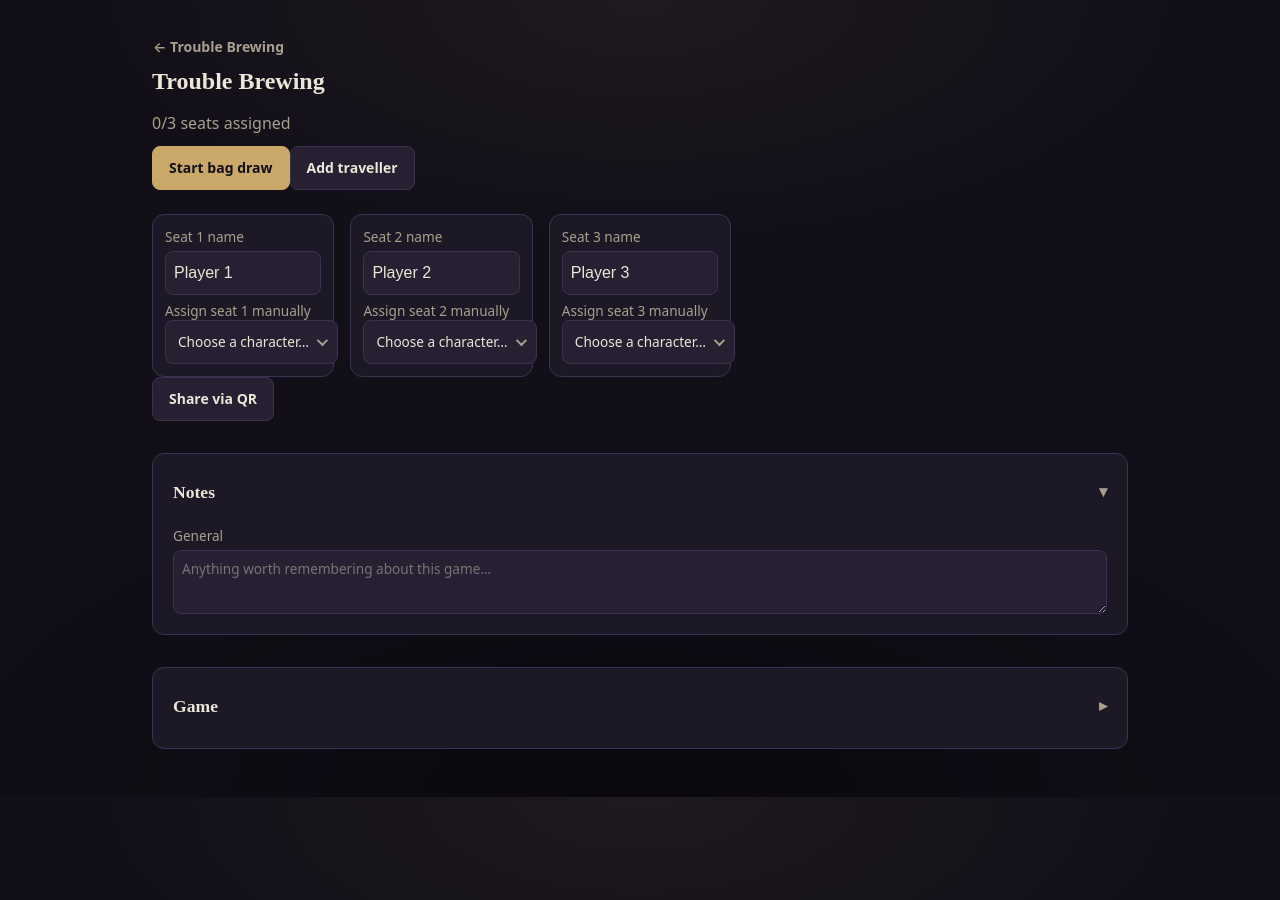
Test: bag draw: shuffle, immediate reveal, name & advance › keeps every already-drawn seat's identity hidden while another seat is mid-draw
Click the button "Start bag draw" at {"x": 221, "y": 168}, box [152,146,290,190]
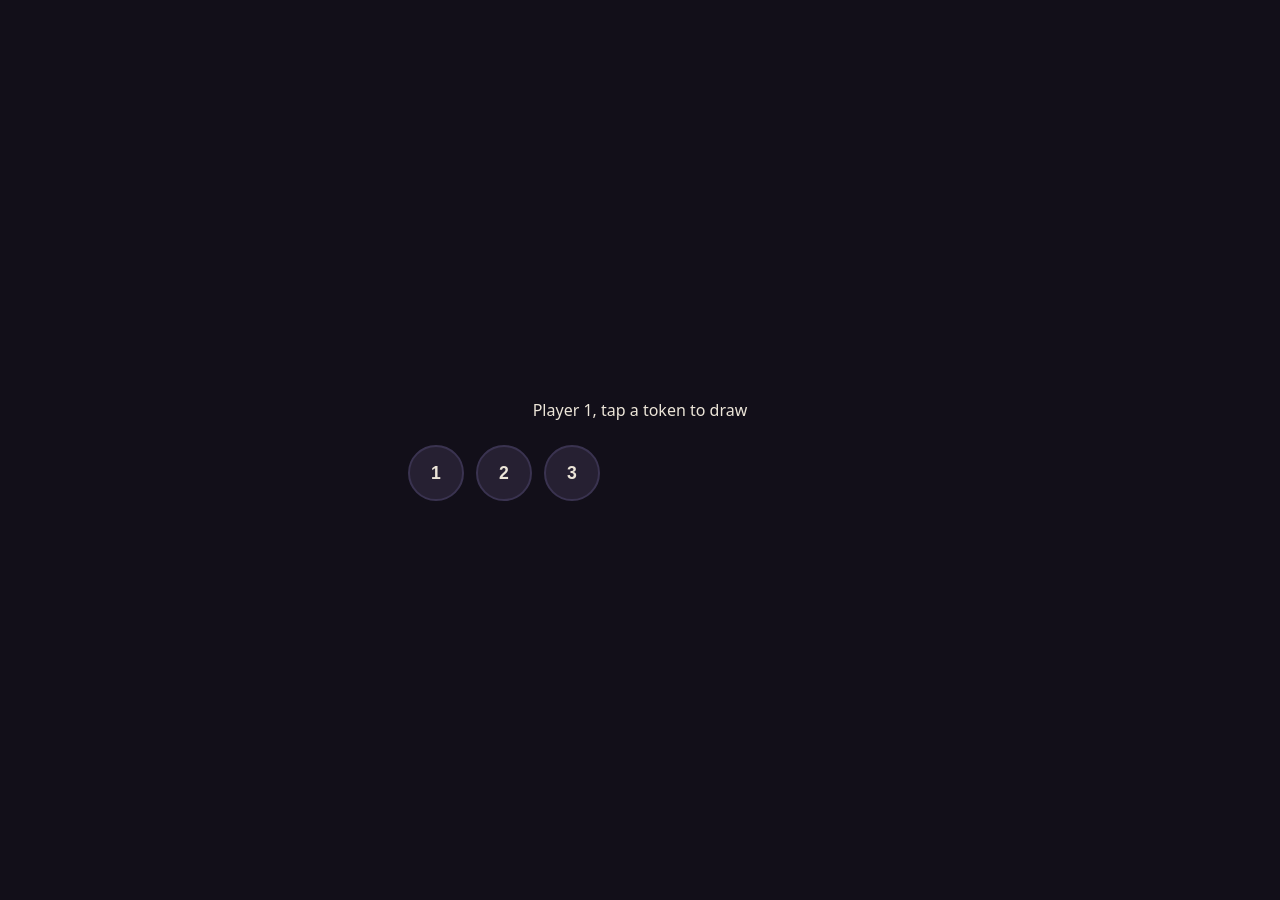
Click the button named "Face-down token" at {"x": 436, "y": 473}, box [408,445,464,501]
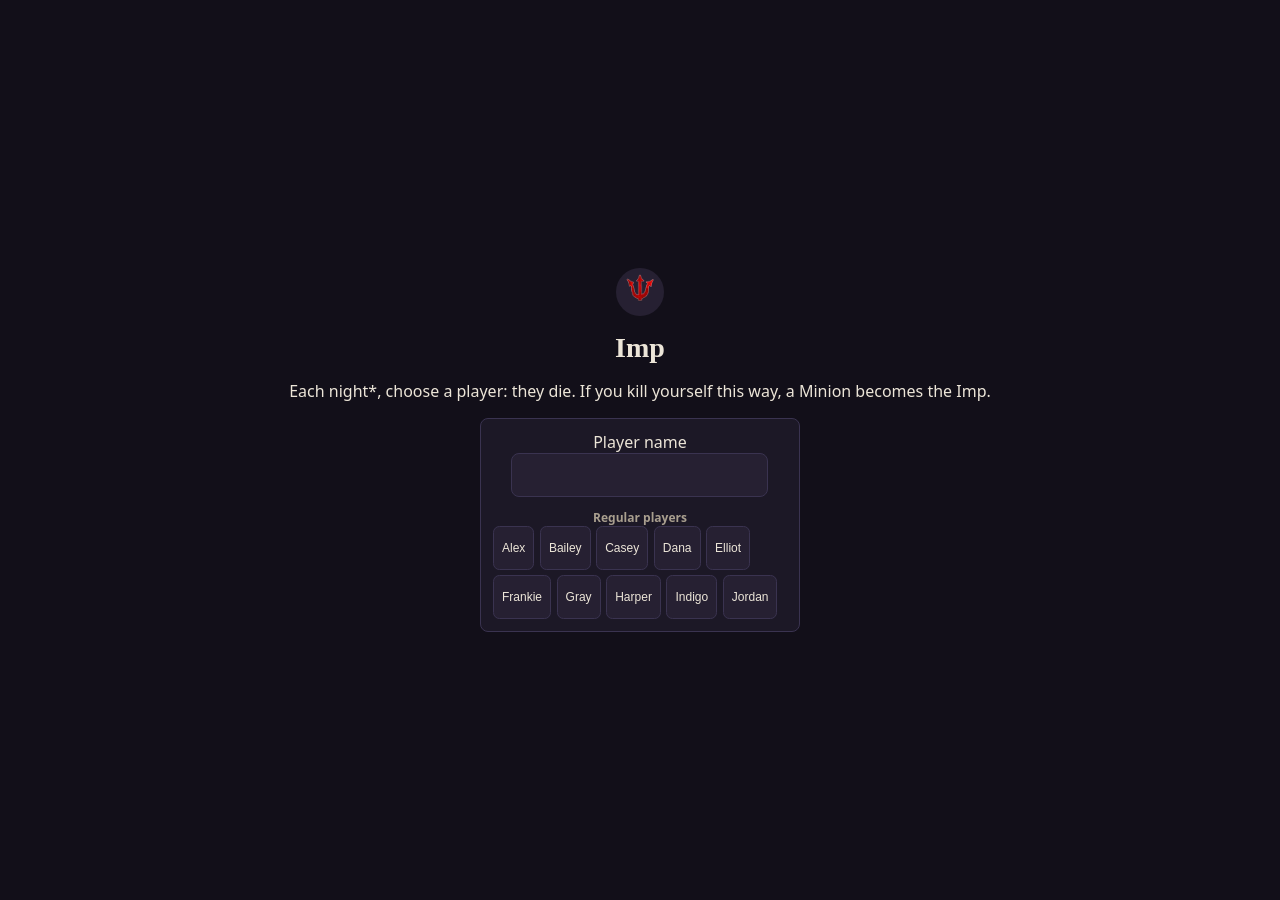
Click the button "Alex" at {"x": 514, "y": 548}, box [493,526,534,570]
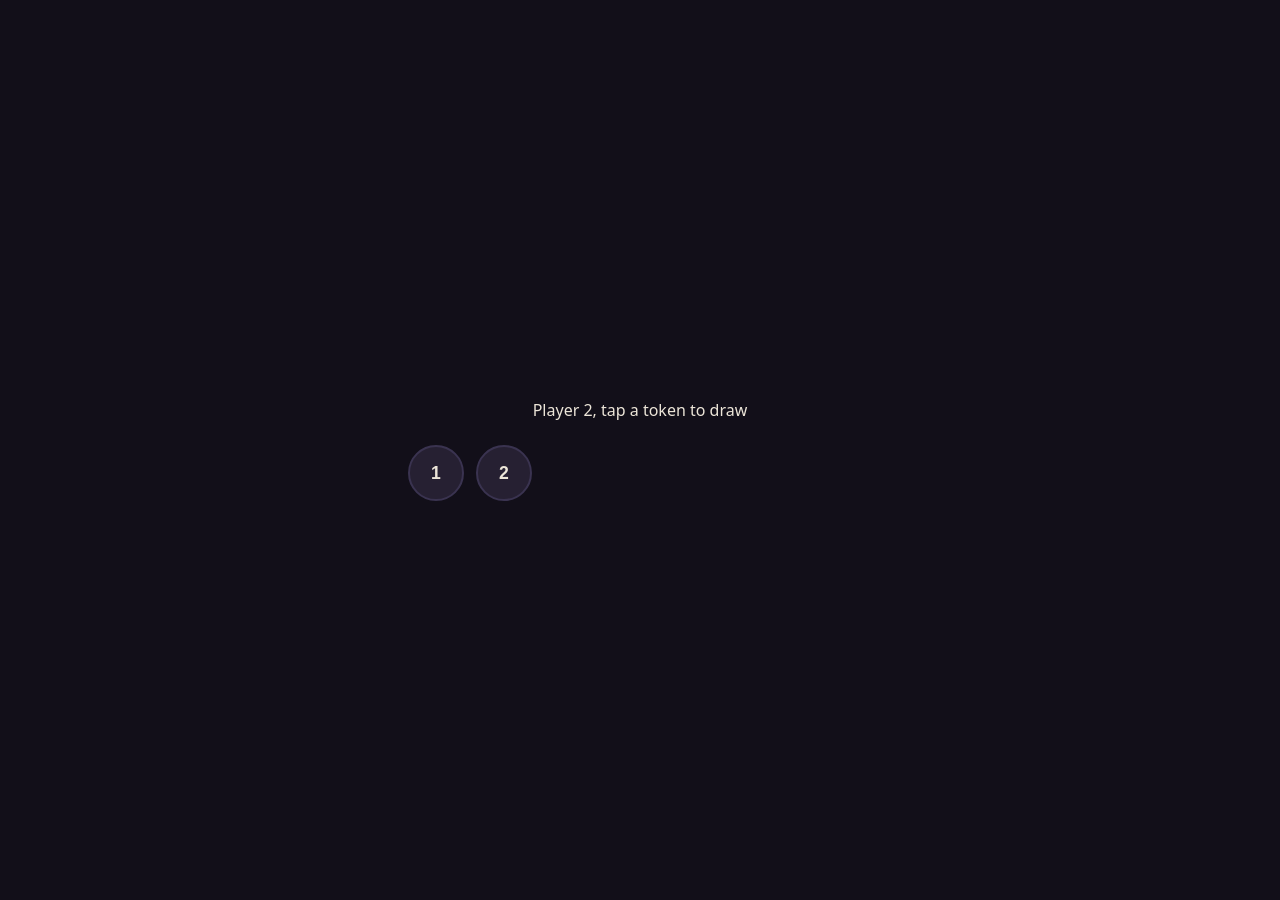
Now the heading "Imp" is gone
